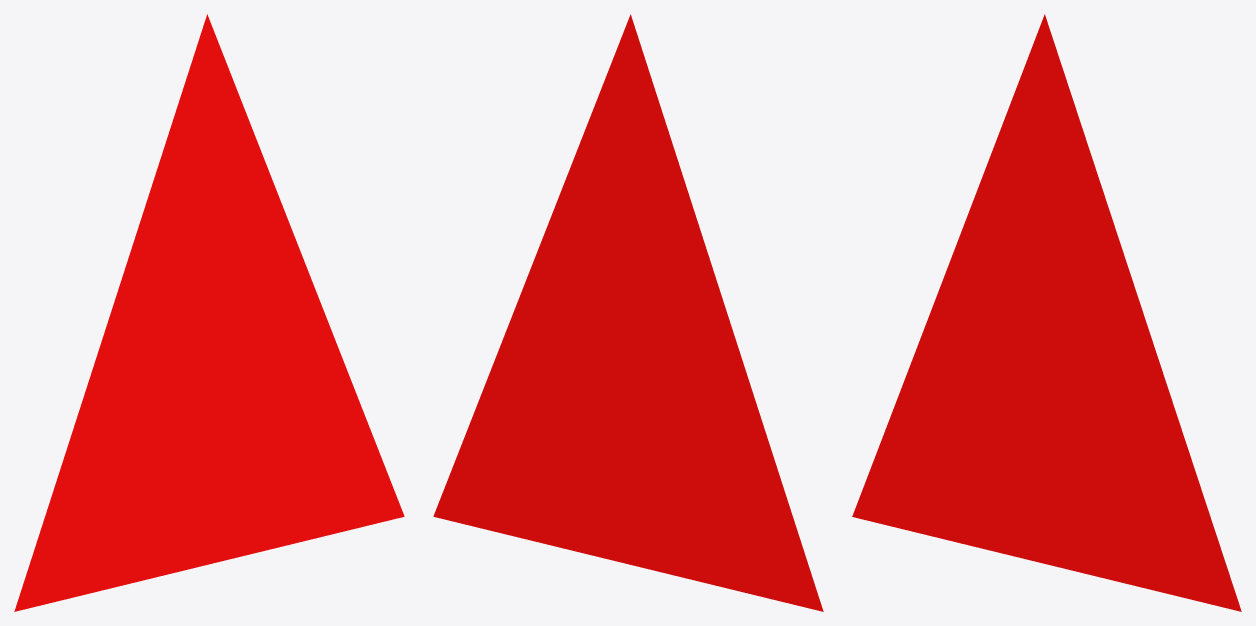
The model's file is primitive-modes.gltf.
3 renders of one model, left to right at view 1: azimuth 30°, elevation 25°; view 2: azimuth 150°, elevation 25°; view 3: azimuth 330°, elevation 25°, orthographic.
Visible parts, largest first — view 1: Mixed primitives; view 2: Mixed primitives; view 3: Mixed primitives.
Boxes of the visible parts, x1,y1,x2,y2 form: Mixed primitives: (14, 14, 404, 611); Mixed primitives: (433, 14, 823, 611); Mixed primitives: (852, 14, 1241, 611).
Bounding box in the file's own units: 0.89 × 1.2 × 0.
